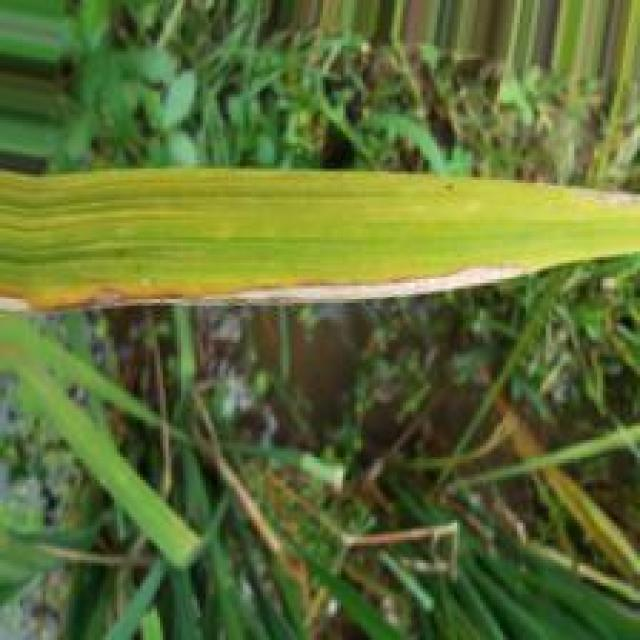Bacterial_Leaf_Blight: (2, 263, 528, 311)
